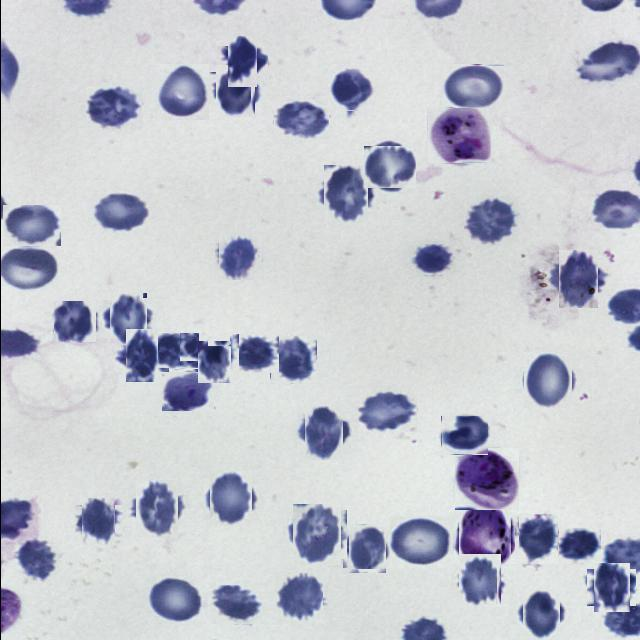gametocyte: (454, 448, 518, 510)
red blood cell: (389, 516, 454, 568), (288, 507, 343, 562), (154, 64, 208, 120), (439, 64, 503, 111), (521, 354, 574, 406), (462, 196, 517, 246), (145, 576, 202, 624), (320, 168, 370, 219), (131, 484, 182, 534), (552, 254, 602, 304), (357, 390, 416, 432), (1, 205, 60, 247), (85, 86, 141, 130), (206, 474, 254, 523), (274, 574, 323, 622), (455, 557, 503, 605), (513, 514, 558, 565), (90, 192, 148, 231), (269, 336, 316, 384), (299, 409, 346, 456), (273, 99, 328, 139), (366, 144, 413, 190), (160, 372, 213, 412), (104, 296, 150, 342), (212, 68, 258, 114), (209, 585, 261, 625), (228, 334, 278, 374), (518, 592, 563, 636), (13, 537, 58, 581), (345, 526, 388, 570), (216, 235, 260, 278), (328, 69, 373, 111), (589, 566, 632, 609), (440, 416, 487, 455), (120, 334, 162, 377), (148, 333, 198, 369), (53, 300, 95, 342), (554, 528, 600, 564), (222, 40, 262, 81), (78, 501, 118, 542), (195, 344, 232, 382), (408, 244, 452, 275)
trophozoite: (426, 108, 490, 164), (456, 509, 513, 566)
